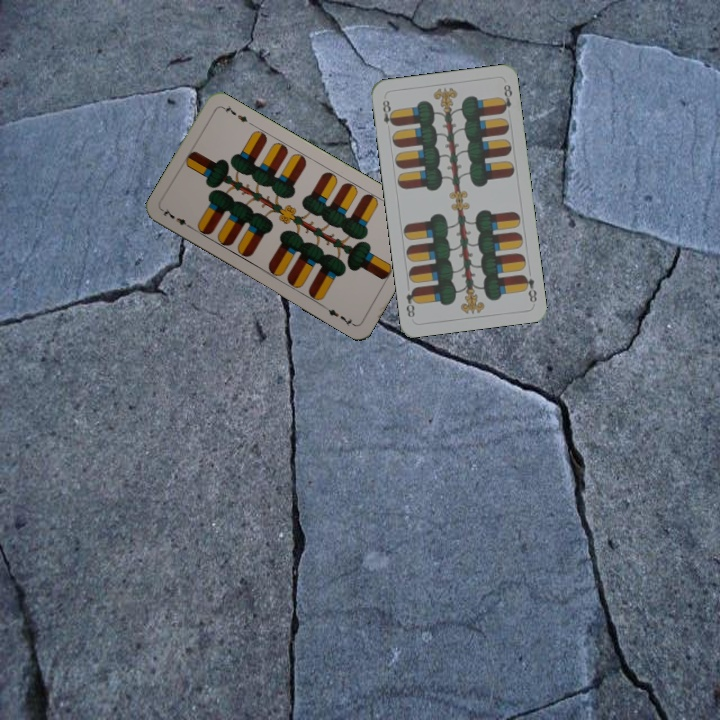E7: (158, 205, 195, 232)
E8: (518, 270, 539, 305), (379, 94, 397, 128)
